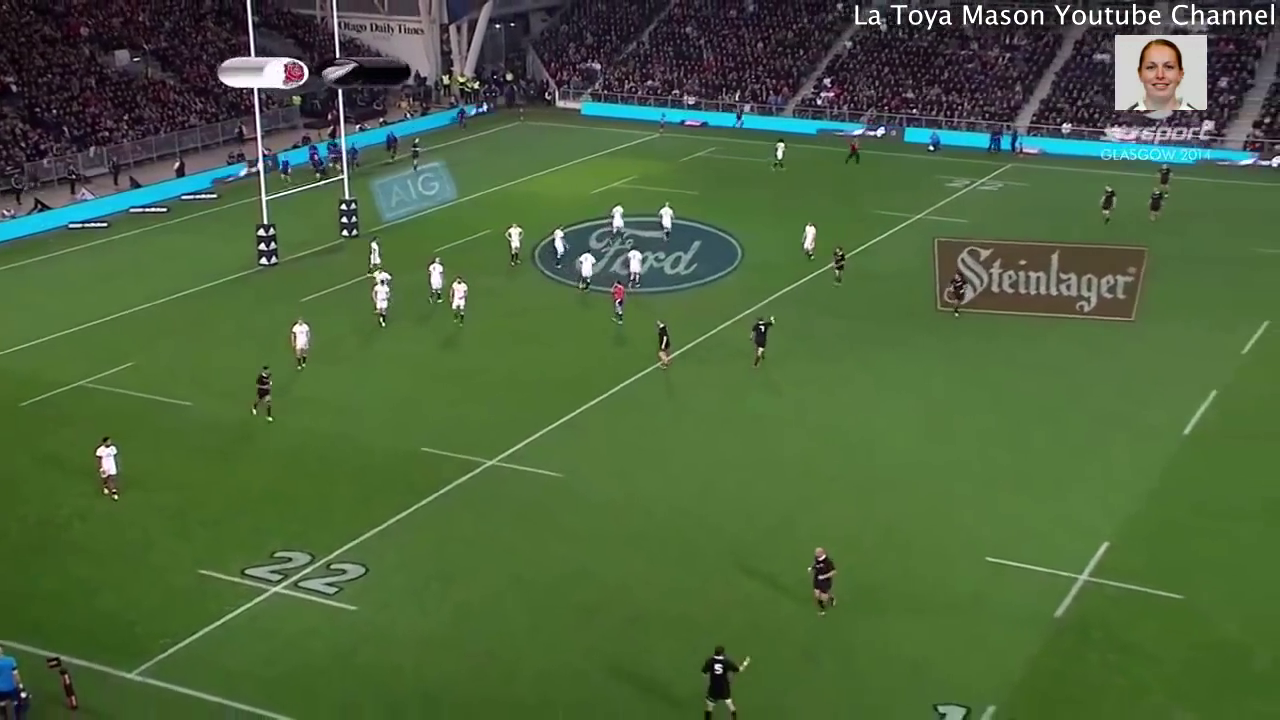10_metre: (971, 533, 1194, 624)
player: (690, 639, 752, 720), (804, 542, 845, 620), (89, 432, 129, 504), (745, 310, 779, 374), (245, 362, 276, 423), (647, 314, 678, 374), (287, 315, 318, 374), (500, 217, 531, 270), (447, 273, 474, 327), (423, 250, 447, 310), (573, 246, 602, 294), (1140, 182, 1170, 228), (370, 275, 396, 328), (794, 214, 822, 263), (623, 242, 647, 299), (654, 201, 680, 247), (947, 266, 970, 316), (1096, 182, 1119, 227), (607, 281, 627, 330), (829, 241, 849, 287), (1154, 161, 1177, 199), (606, 196, 624, 241), (549, 221, 567, 266), (771, 134, 791, 173), (360, 237, 385, 266), (366, 262, 392, 281)
post: (252, 100, 360, 280)
